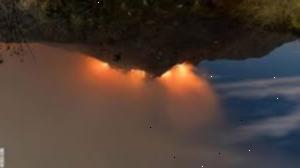fire: (82, 41, 209, 98)
